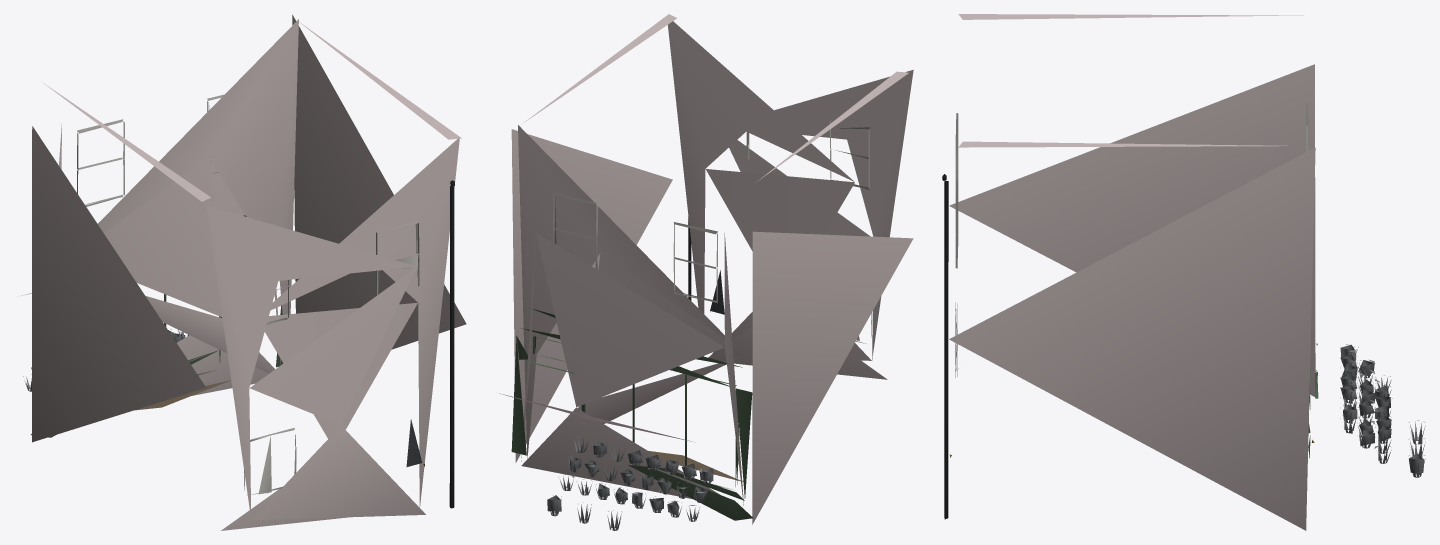
Rendered from florist_mirror.glb.
The picture shows the model from 3 angles, left to right: view 1: azimuth 30°, elevation 25°; view 2: azimuth 150°, elevation 25°; view 3: azimuth 270°, elevation 25°; orthographic projection. The views are drawn at different scales.
Visible parts, largest first — view 1: florist_mirror; view 2: florist_mirror; view 3: florist_mirror.
Part boxes in pixels (bbox=[...]): florist_mirror: bbox=[19, 14, 466, 530]; florist_mirror: bbox=[499, 14, 913, 530]; florist_mirror: bbox=[942, 14, 1425, 530].
Bounding box in the file's own units: 5.63 × 7.5 × 8.57.
